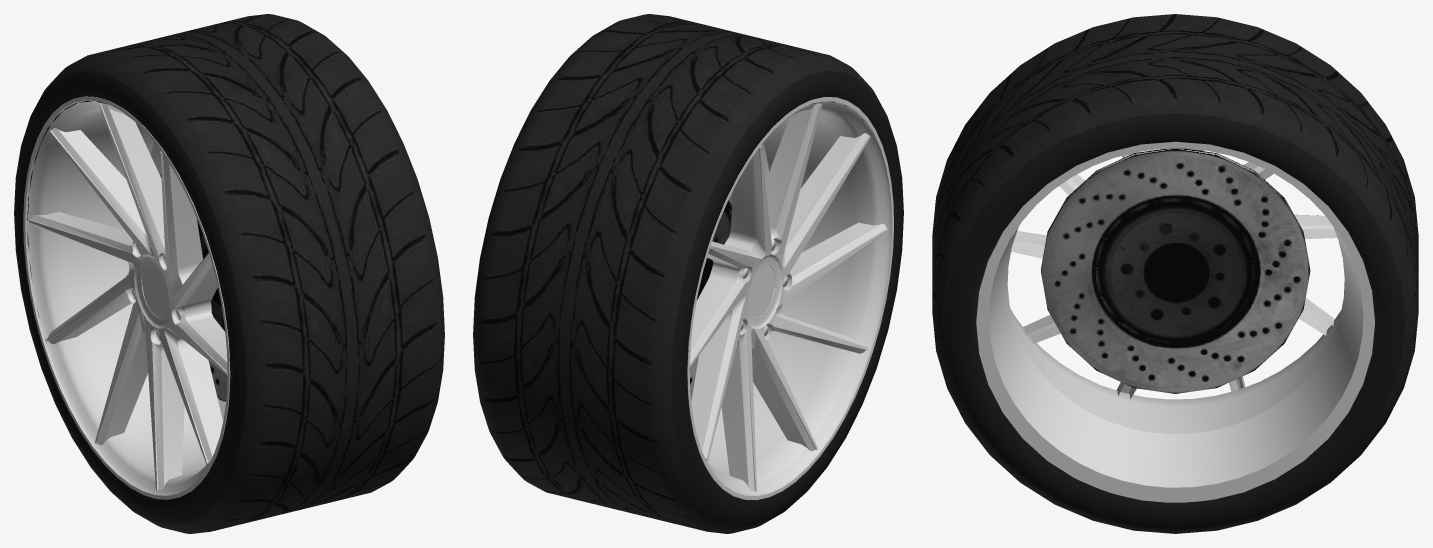
The model's file is 01_Vossen.fbx.
The picture shows the model from 3 angles, left to right: view 1: azimuth 30°, elevation 25°; view 2: azimuth 150°, elevation 25°; view 3: azimuth 270°, elevation 25°; orthographic projection.
Visible parts, largest first — view 1: Combined No Name Object 0, VossenRim, Combined co_contisportcontact_2_vmax_wall Object 0, Rotor; view 2: Combined No Name Object 0, VossenRim, Combined co_contisportcontact_2_vmax_wall Object 0, Rotor; view 3: Combined No Name Object 0, Rotor, VossenRim, Combined co_contisportcontact_2_vmax_wall Object 0.
Boxes of the visible parts, x1,y1,x2,y2 form: Combined No Name Object 0: (14,14,444,533); VossenRim: (23,96,230,499); Combined co_contisportcontact_2_vmax_wall Object 0: (14,70,246,525); Rotor: (160,173,227,402); Combined No Name Object 0: (473,14,903,533); VossenRim: (687,97,893,500); Combined co_contisportcontact_2_vmax_wall Object 0: (671,70,903,525); Rotor: (689,192,732,400); Combined No Name Object 0: (932,14,1418,533); Rotor: (1041,148,1310,393); VossenRim: (976,141,1374,502); Combined co_contisportcontact_2_vmax_wall Object 0: (945,113,1405,530).
Bounding box in the file's own units: 0.3334 × 0.688 × 0.688.
